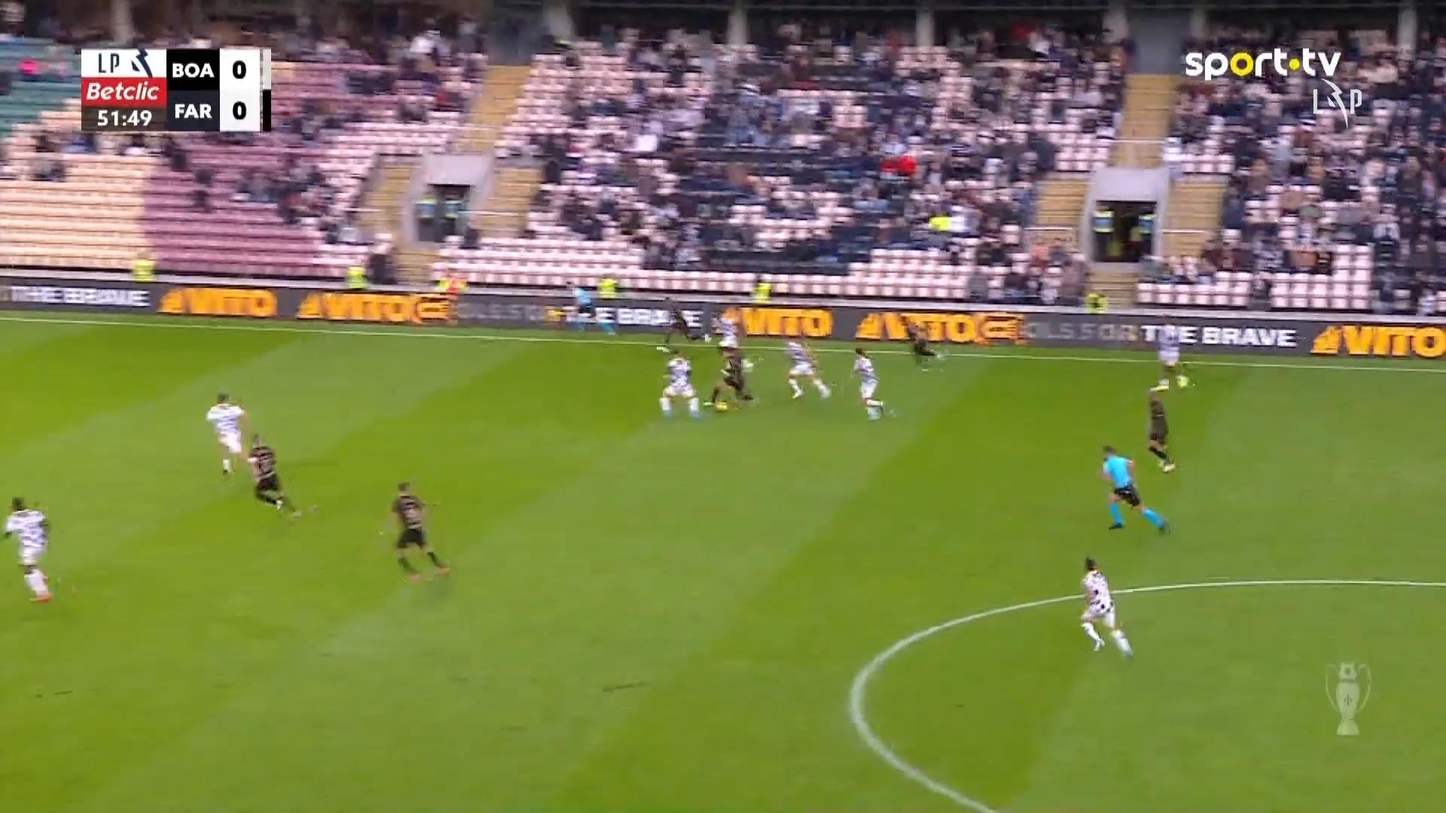ball: (715, 400, 728, 411)
player: (389, 480, 450, 581), (1078, 556, 1133, 659), (2, 495, 53, 601), (246, 432, 300, 517), (205, 391, 248, 479), (704, 348, 756, 410), (782, 336, 832, 399), (1151, 313, 1191, 391), (658, 351, 701, 419), (1146, 378, 1176, 472), (899, 312, 944, 372), (851, 345, 886, 420), (655, 294, 694, 352), (709, 308, 742, 359)
referee: (1097, 443, 1170, 534), (564, 279, 595, 333)
